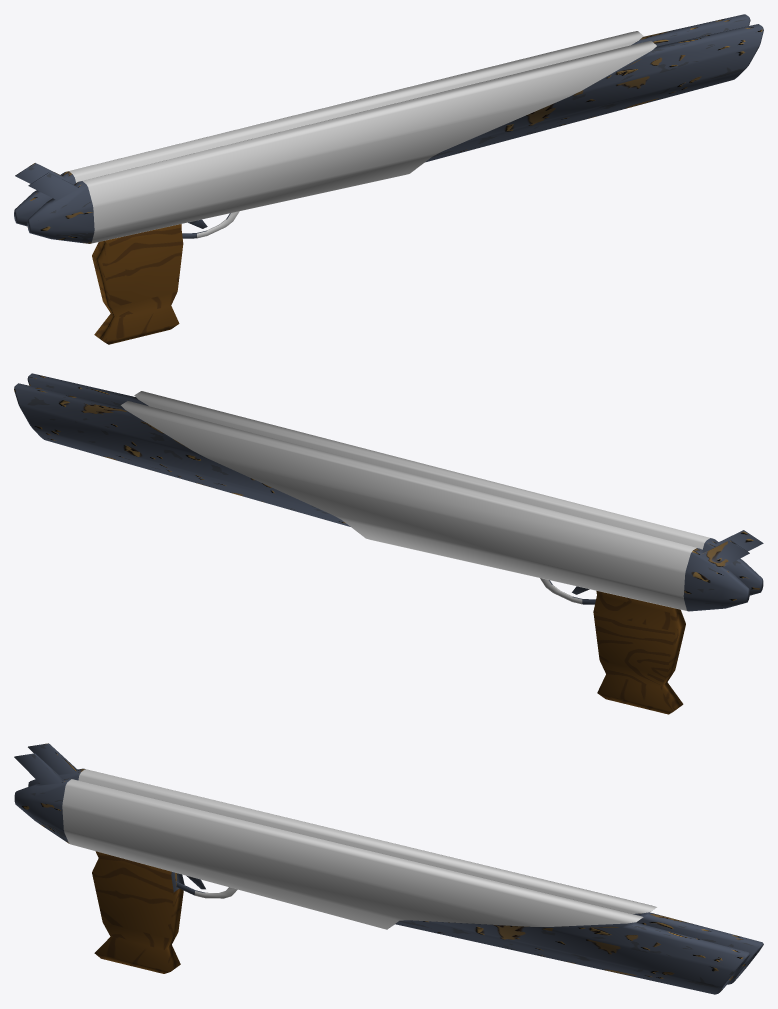
The model's file is shoutgun.dae.
The picture shows the model from 3 angles, top to bottom: view 1: azimuth 30°, elevation 25°; view 2: azimuth 150°, elevation 25°; view 3: azimuth 330°, elevation 25°; orthographic projection.
Visible parts, largest first — view 1: SHOTGUNS DO GORDO DA EDREIRA; view 2: SHOTGUNS DO GORDO DA EDREIRA; view 3: SHOTGUNS DO GORDO DA EDREIRA.
Boxes of the visible parts, x1=… form: SHOTGUNS DO GORDO DA EDREIRA: x1=14, y1=14, x2=763, y2=344; SHOTGUNS DO GORDO DA EDREIRA: x1=14, y1=373, x2=763, y2=714; SHOTGUNS DO GORDO DA EDREIRA: x1=14, y1=743, x2=763, y2=994.
Size of the model in its own units: 8.65 by 0.7571 by 2.15.
